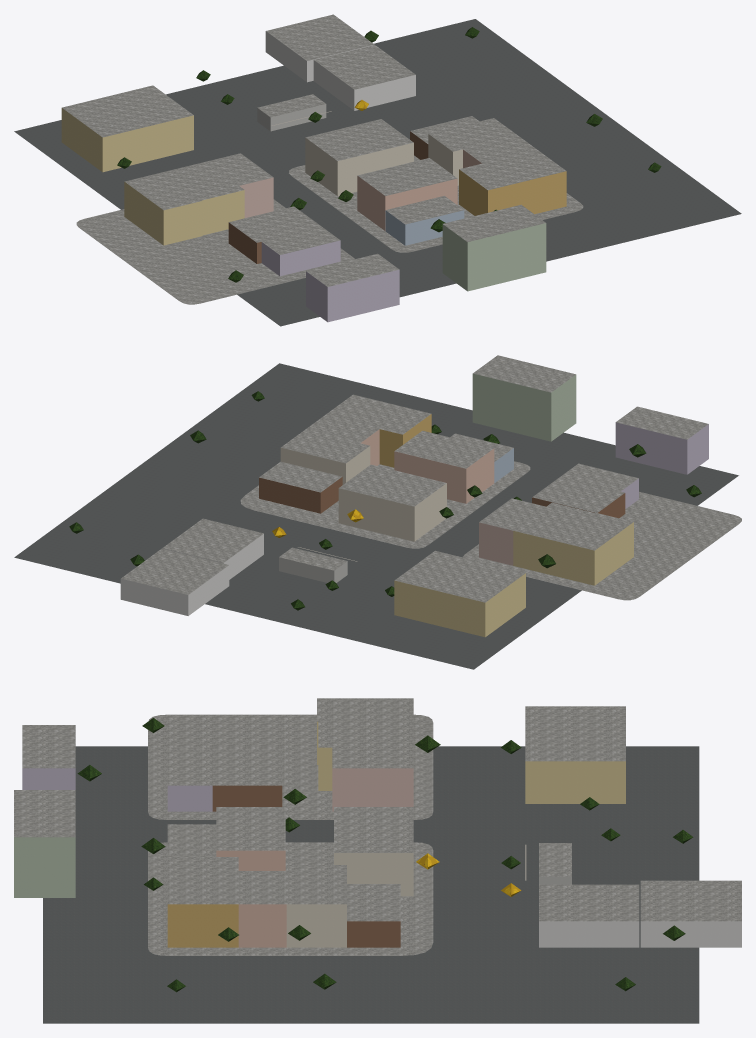
File: cidade_S05_06_lod.gltf
3 renders of one model, top to bottom at view 1: azimuth 30°, elevation 25°; view 2: azimuth 150°, elevation 25°; view 3: azimuth 270°, elevation 25°, orthographic. The views are drawn at different scales.
Parts seen in each view (by area): view 1: S05_06_Edificios_LOD1, S05_06_Chao_LOD2, S05_06_Vegetacao_LOD2; view 2: S05_06_Chao_LOD2, S05_06_Edificios_LOD1, S05_06_Vegetacao_LOD2; view 3: S05_06_Chao_LOD2, S05_06_Edificios_LOD1, S05_06_Vegetacao_LOD2.
Part boxes in pixels (x1,y1,x2,y2): S05_06_Edificios_LOD1: (61, 14, 566, 322); S05_06_Chao_LOD2: (14, 19, 741, 326); S05_06_Vegetacao_LOD2: (117, 27, 661, 282); S05_06_Chao_LOD2: (14, 363, 741, 669); S05_06_Edificios_LOD1: (120, 355, 708, 637); S05_06_Vegetacao_LOD2: (69, 391, 701, 610); S05_06_Chao_LOD2: (43, 714, 699, 1023); S05_06_Edificios_LOD1: (14, 698, 741, 947); S05_06_Vegetacao_LOD2: (77, 718, 693, 992).
Bounding box in the file's own units: 111 × 10.37 × 111.
16 materials, 16 textured.
